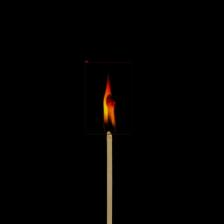fire: (85, 62, 131, 134)
